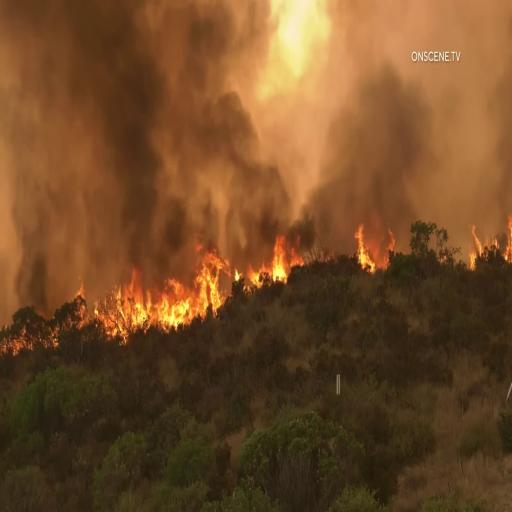fire: (74, 246, 226, 348)
smoke: (46, 30, 322, 227)
